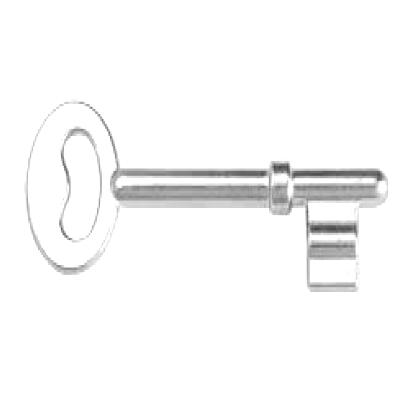key: (25, 92, 388, 300)
